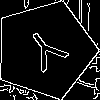Y: (20, 25, 76, 81)
